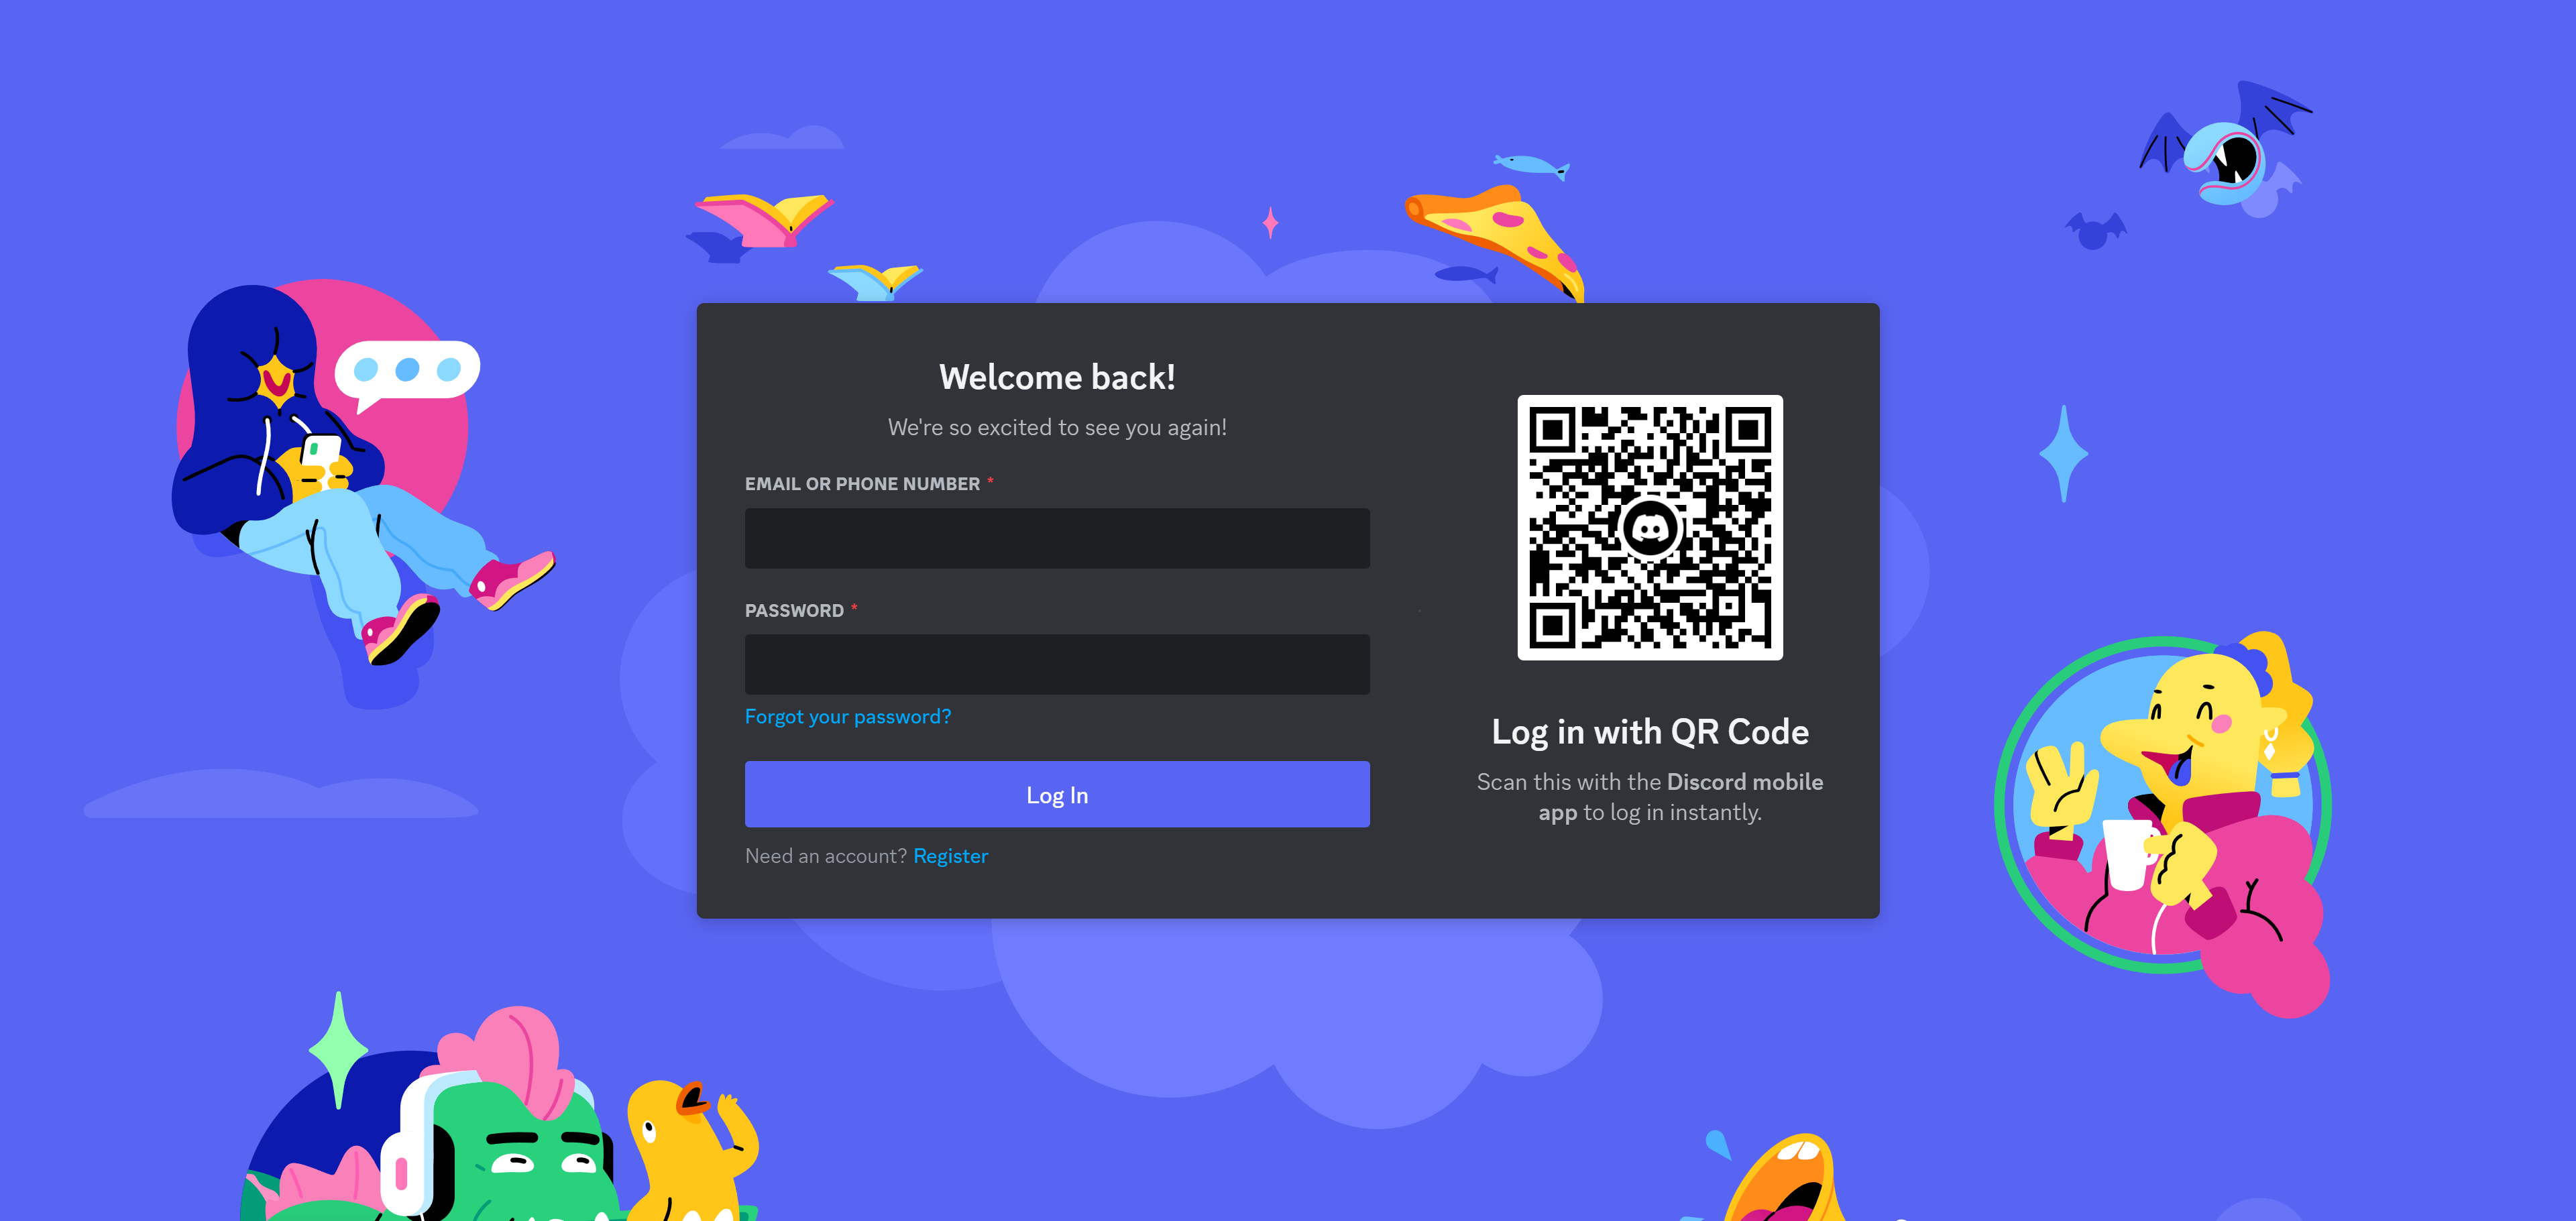login_button: (744, 763, 1370, 827)
login_form: (736, 463, 1378, 838)
